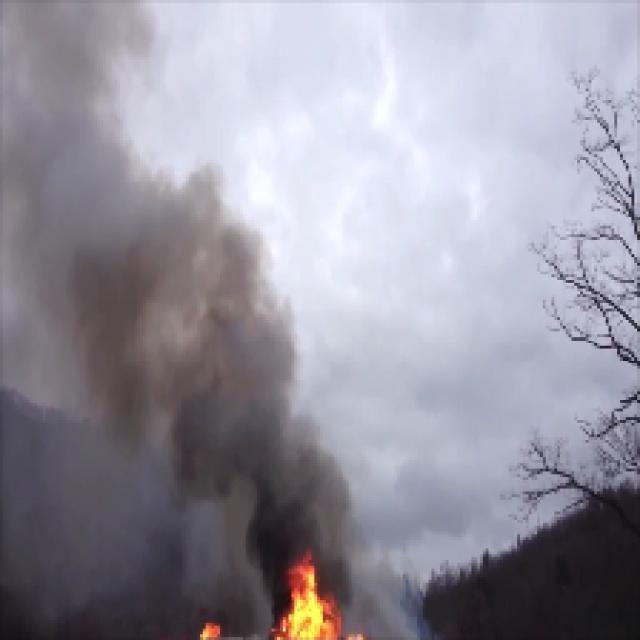Fire: (268, 557, 354, 640)
Smoke: (3, 2, 158, 596), (161, 170, 287, 506), (288, 418, 347, 546)
